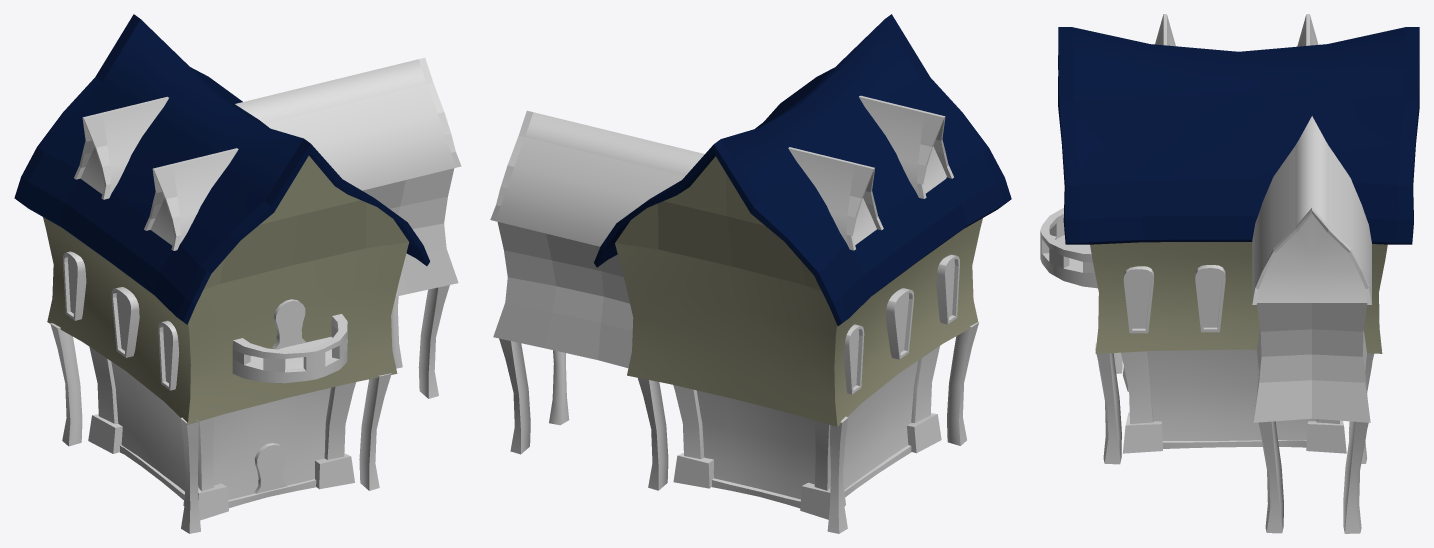
File: L_HouseVar-3.fbx
3 renders of one model, left to right at view 1: azimuth 30°, elevation 25°; view 2: azimuth 150°, elevation 25°; view 3: azimuth 270°, elevation 25°, orthographic. The views are drawn at different scales.
Visible parts, largest first — view 1: Box536, Box630, Object175, Box614, Box649, Box615, Object173, Object177, Object437, Object174, Object192, Box657 (+11 smaller); view 2: Box536, Box630, Object175, Box615, Box614, Object174, Object438, Object176, Object177, Box657, Object190, Box659 (+9 smaller); view 3: Box536, Box630, Object175, Box649, Object438, Object173, Object437, Box661, Box660, Object192, Object188, Object198 (+1 smaller).
Part boxes in pixels (x1,y1,x2,y2): Box536: (14, 14, 429, 424); Box630: (235, 57, 461, 296); Object175: (111, 361, 330, 499); Box614: (74, 96, 168, 199); Box649: (232, 314, 347, 383); Box615: (144, 148, 238, 250); Object173: (359, 373, 391, 490); Object177: (50, 323, 82, 446); Object437: (418, 285, 449, 398); Object174: (180, 417, 200, 533); Object192: (324, 382, 356, 459); Box657: (111, 287, 139, 357); Box536: (594, 14, 1011, 426); Box630: (490, 110, 704, 367); Object175: (697, 361, 918, 499); Box615: (859, 95, 953, 198); Box614: (788, 147, 883, 250); Object174: (947, 322, 978, 445); Object438: (499, 338, 530, 454); Object176: (638, 378, 668, 490); Object177: (827, 416, 848, 533); Box657: (886, 288, 914, 359); Object190: (673, 385, 704, 458); Box659: (936, 254, 959, 324); Box536: (1058, 27, 1419, 353); Box630: (1252, 116, 1371, 422); Object175: (1146, 349, 1316, 440); Box649: (1040, 208, 1097, 288); Object438: (1343, 421, 1368, 533); Object173: (1095, 343, 1121, 464); Object437: (1258, 421, 1283, 533); Box661: (1195, 265, 1225, 332); Box660: (1123, 266, 1153, 333); Object192: (1121, 351, 1153, 423); Object188: (1122, 412, 1162, 453); Object198: (1306, 420, 1346, 453).
Bounding box in the file's own units: 801 × 794 × 699.
